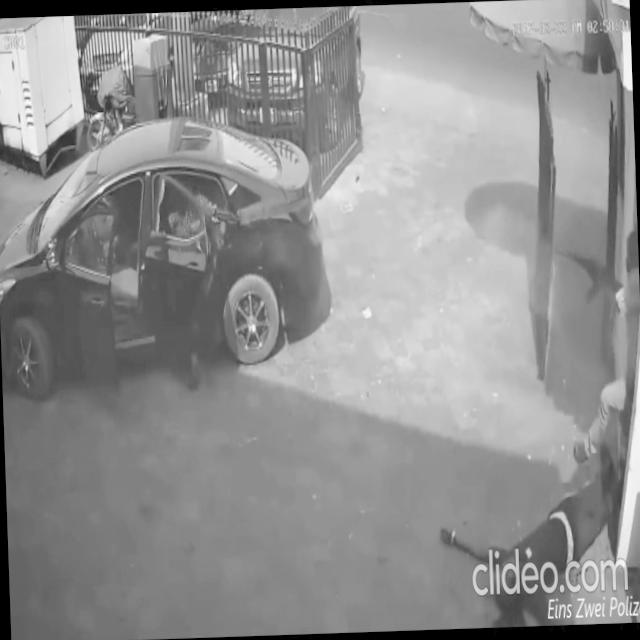gun: (554, 238, 624, 312), (190, 198, 242, 252)
person: (436, 438, 627, 628)
person with a gun: (553, 222, 640, 467), (168, 172, 248, 394)
